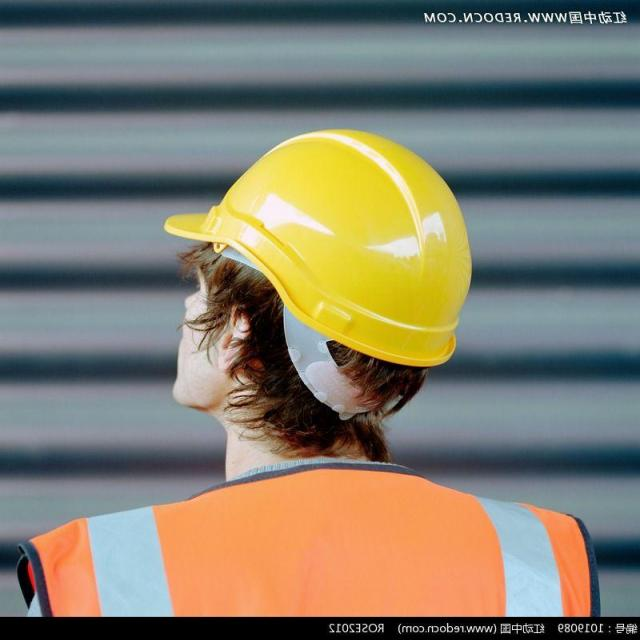Reflective-Jacket: (14, 467, 600, 614)
Safety-Helmet: (163, 127, 481, 369)
